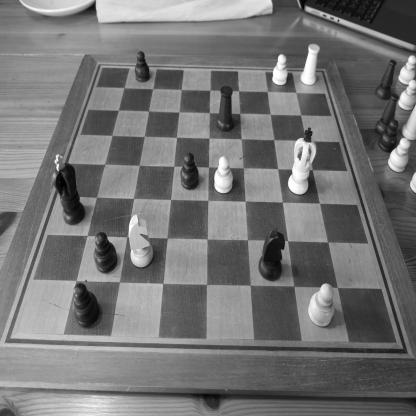black-bishop: (375, 93, 399, 135), (375, 59, 397, 101)
black-king: (52, 154, 85, 226)
black-knight: (258, 227, 286, 282)
black-pawn: (72, 283, 100, 328), (93, 231, 118, 274), (180, 152, 200, 191), (378, 118, 399, 154), (134, 50, 150, 83)
black-rook: (216, 85, 234, 132)
white-king: (287, 127, 317, 196)
white-knight: (129, 214, 154, 268)
white-pawn: (308, 282, 335, 328), (387, 137, 411, 174), (214, 156, 234, 194), (398, 79, 415, 113), (398, 55, 415, 87), (272, 53, 288, 86)
white-rook: (300, 43, 320, 86), (401, 100, 415, 142)
